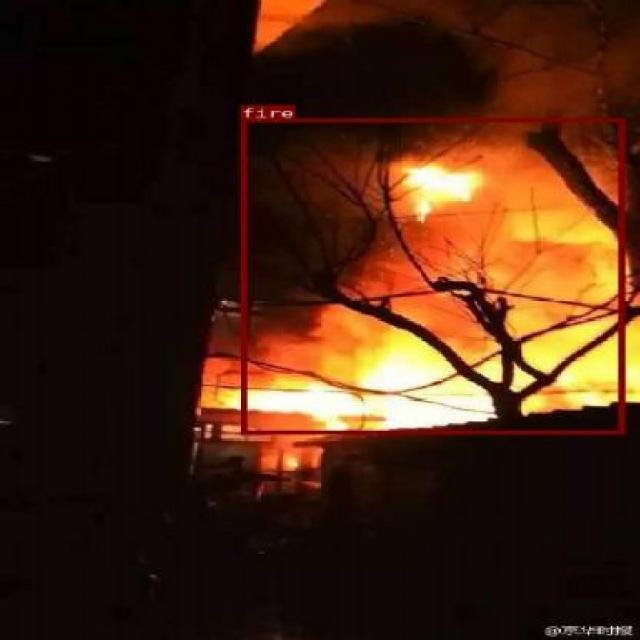Fire: (238, 118, 624, 434)
